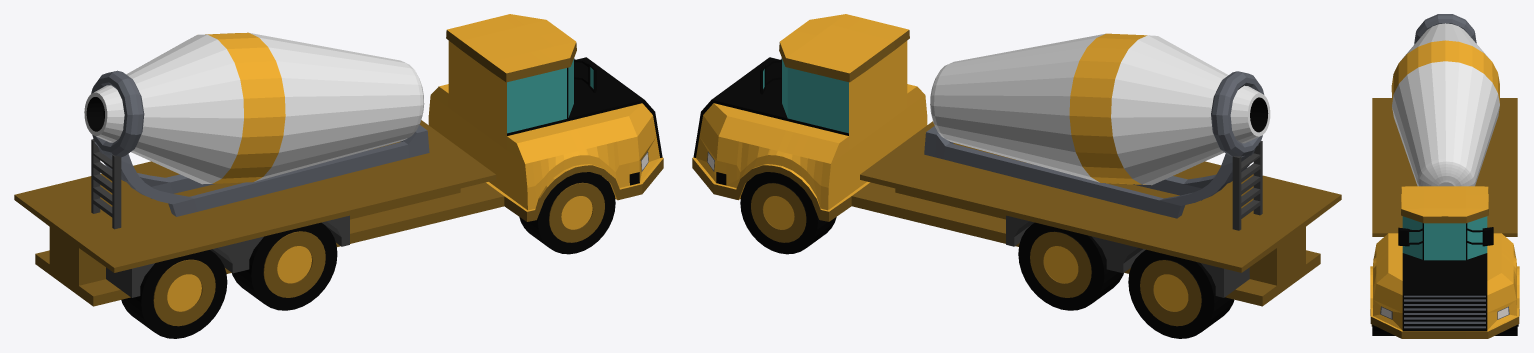
Rendered from construction truck cocrete.fbx.
3 views of the same model, side by side, from view 1: azimuth 30°, elevation 25°; view 2: azimuth 150°, elevation 25°; view 3: azimuth 270°, elevation 25° (orthographic). The views are drawn at different scales.
Parts seen in each view (by area): view 1: Cube; view 2: Cube; view 3: Cube.
Boxes of the visible parts, left/top/right/bottom form: Cube: left=14, top=14, right=663, bottom=338; Cube: left=692, top=14, right=1341, bottom=338; Cube: left=1370, top=14, right=1519, bottom=338.
Size of the model in its own units: 696 by 295 by 217.
